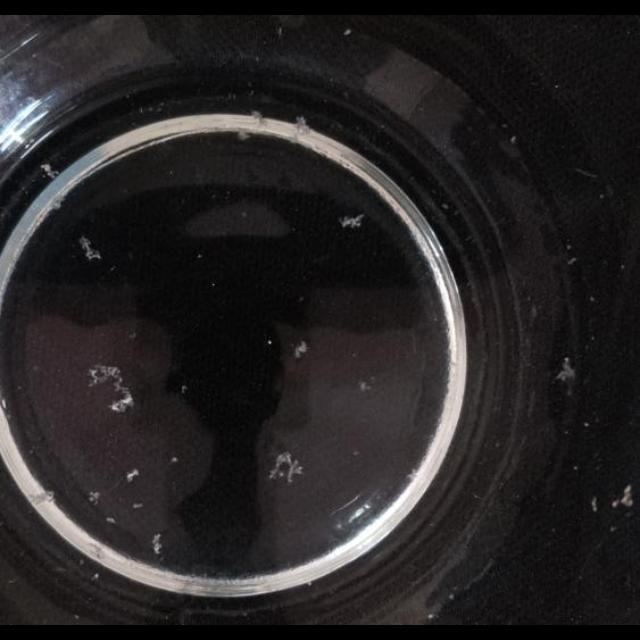Fibre: (88, 364, 136, 412), (268, 450, 306, 484), (554, 356, 576, 390), (78, 236, 102, 262), (28, 490, 56, 508), (340, 214, 364, 230), (293, 115, 311, 136), (41, 162, 59, 180), (151, 533, 163, 555), (249, 110, 265, 126), (294, 340, 308, 358), (236, 130, 252, 142), (88, 491, 100, 505), (360, 380, 372, 392)
microbeads: (126, 469, 140, 483), (567, 257, 577, 265), (106, 516, 116, 524), (132, 502, 142, 510), (92, 572, 100, 582), (180, 384, 188, 394), (342, 27, 352, 35), (441, 202, 449, 210), (170, 456, 178, 464), (510, 136, 518, 144), (352, 449, 360, 456), (583, 420, 589, 428), (589, 296, 595, 302), (599, 194, 605, 200), (197, 253, 203, 259)
